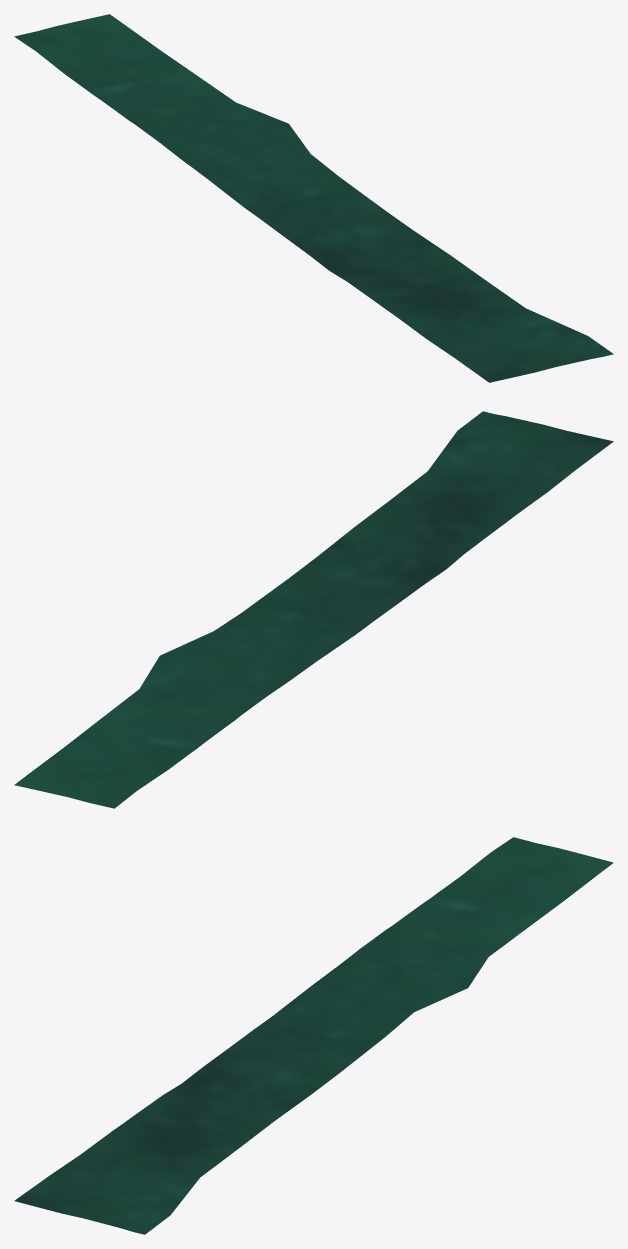
The picture shows the model from 3 angles, top to bottom: view 1: azimuth 30°, elevation 25°; view 2: azimuth 150°, elevation 25°; view 3: azimuth 330°, elevation 25°; orthographic projection. The views are drawn at different scales.
Bounding box in the file's own units: 7.91 × 0.3245 × 52.22.
1 material, 1 textured.
